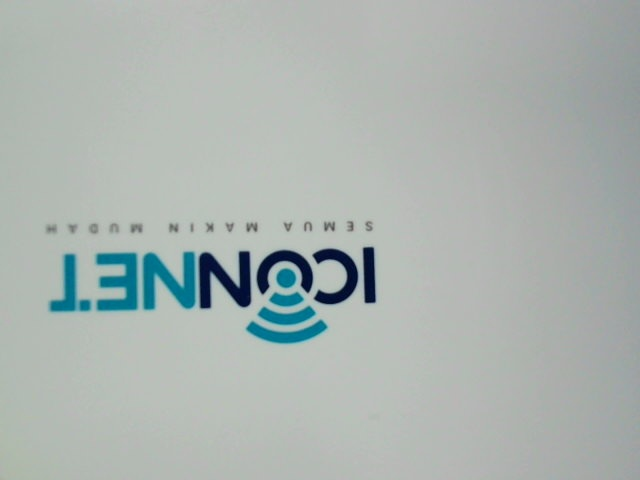BM_ICONNET: (34, 208, 407, 357)
